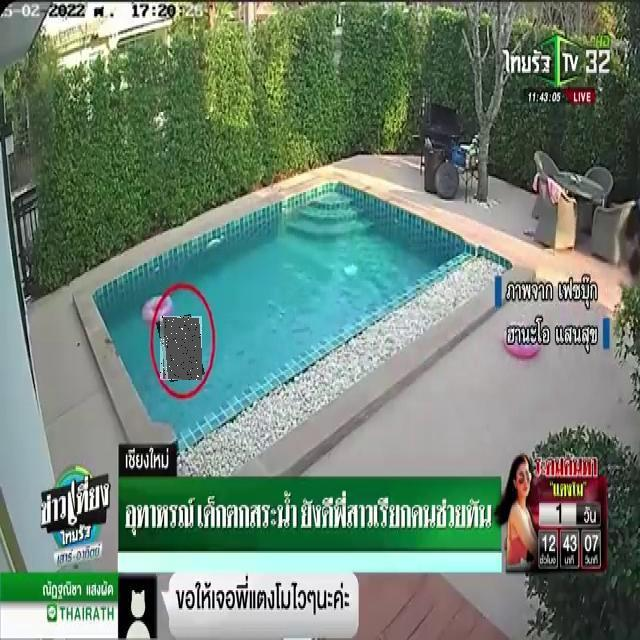Out of Water: (160, 316, 202, 380)
